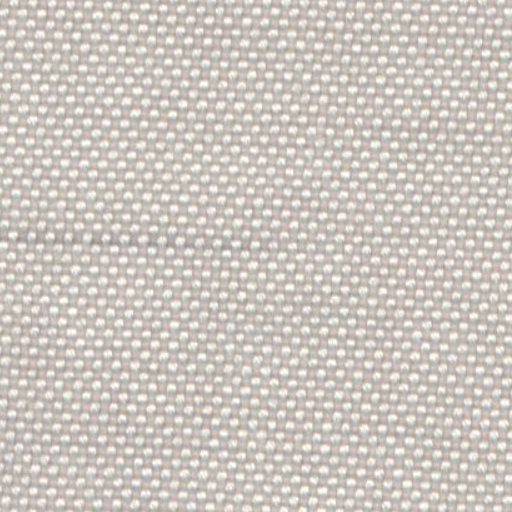WuZi: (10, 220, 212, 254)
